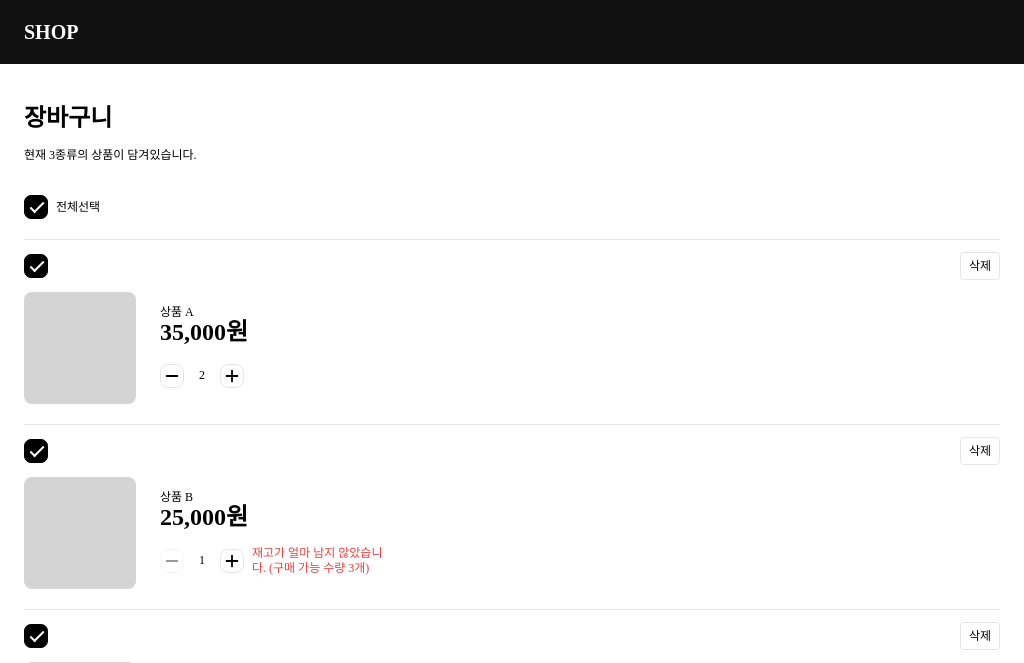
Scenario: 수량 변경 › + 버튼 클릭 시 수량이 증가한다
The image size is (1024, 663).
Expected: the text "상품 A" is shown, [160, 304, 194, 318]
Click the 3rd button at {"x": 232, "y": 376}, box [220, 364, 244, 388]
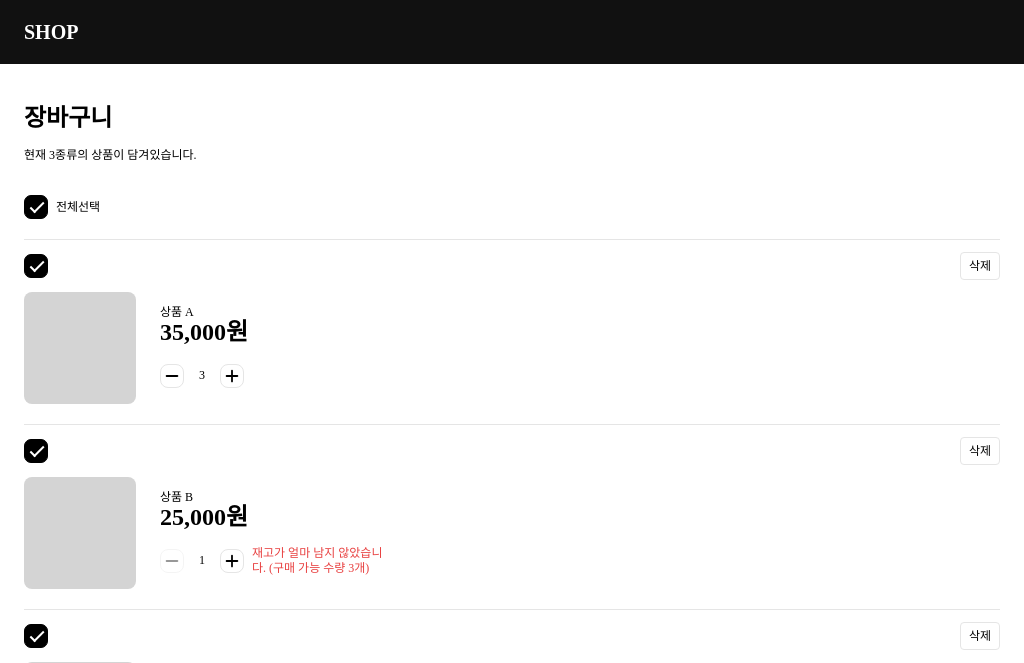
Now the text "3" is shown, box [199, 368, 205, 382]
